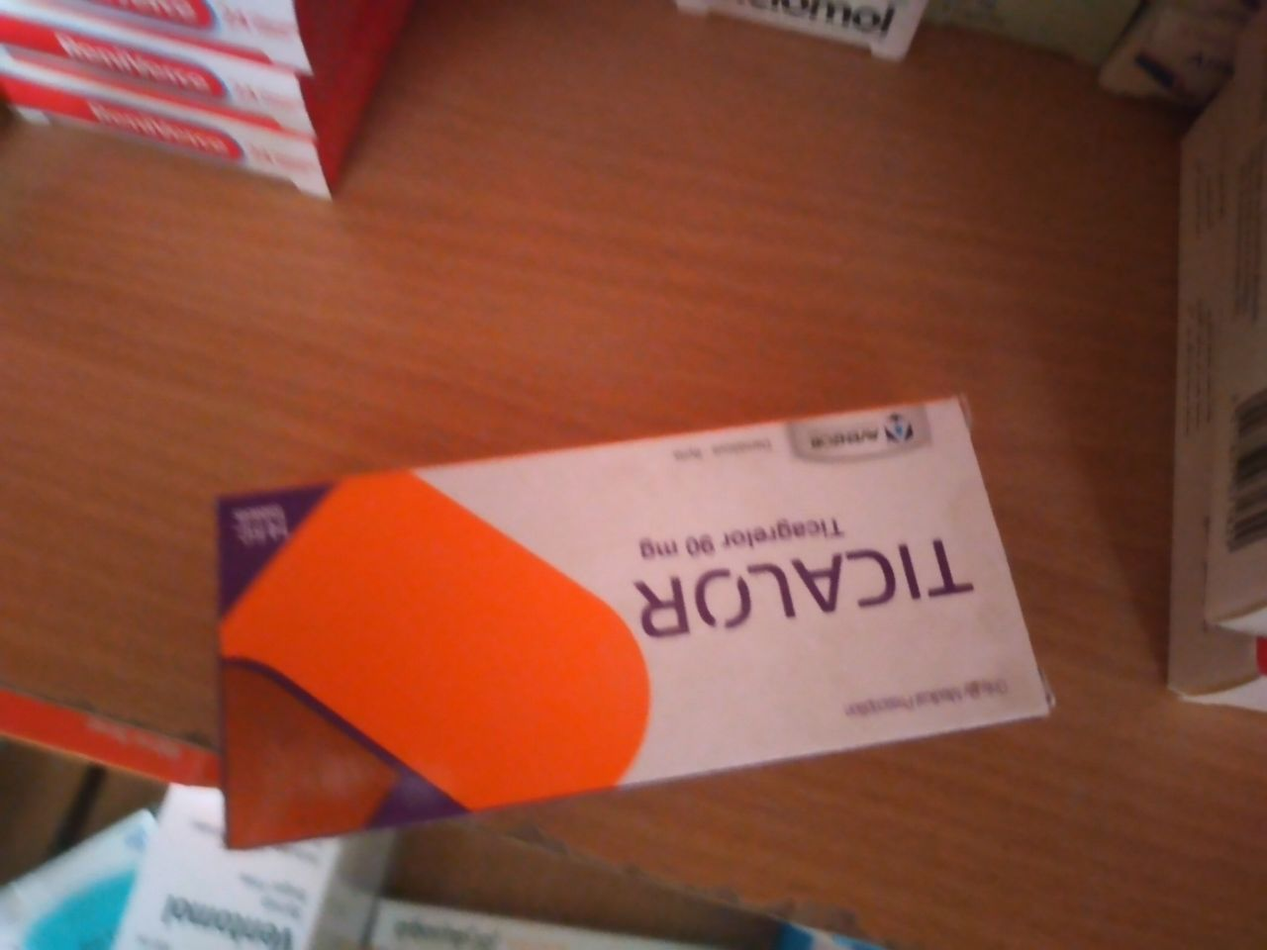Medicine: (213, 393, 1057, 856)
